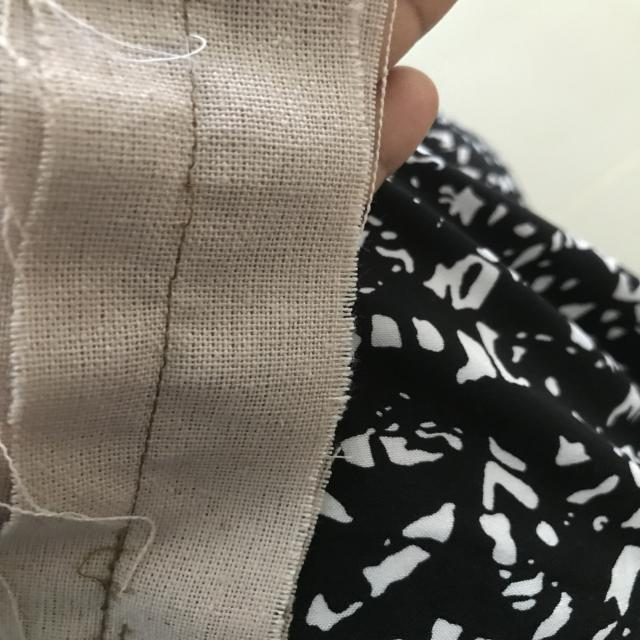skip: (165, 165, 210, 242)
